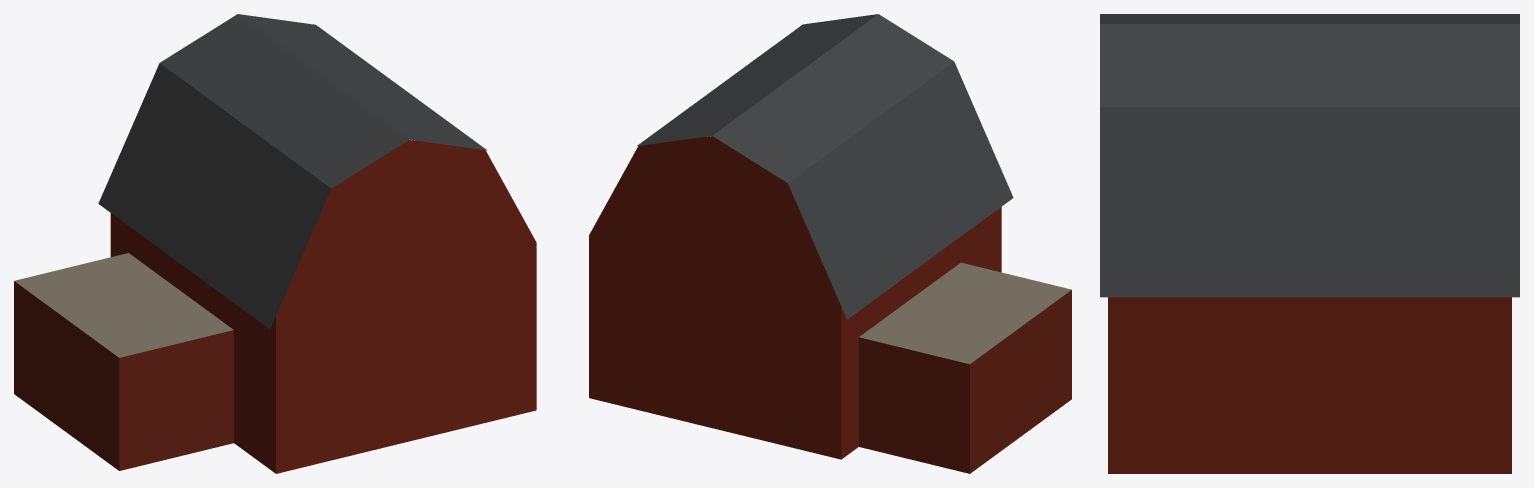
Rendered from cr-barn-lofts.towns-v1.lod2.glb.
3 renders of one model, left to right at view 1: azimuth 30°, elevation 25°; view 2: azimuth 150°, elevation 25°; view 3: azimuth 270°, elevation 25°, orthographic. The views are drawn at different scales.
Visible parts, largest first — view 1: cr-barn-lofts; view 2: cr-barn-lofts; view 3: cr-barn-lofts.
Part boxes in pixels (box(x1,y1,x2,y2)): cr-barn-lofts: box(14, 14, 536, 473); cr-barn-lofts: box(589, 14, 1071, 473); cr-barn-lofts: box(1100, 14, 1519, 473).
Bounding box in the file's own units: 14.75 × 11.18 × 11.42.
